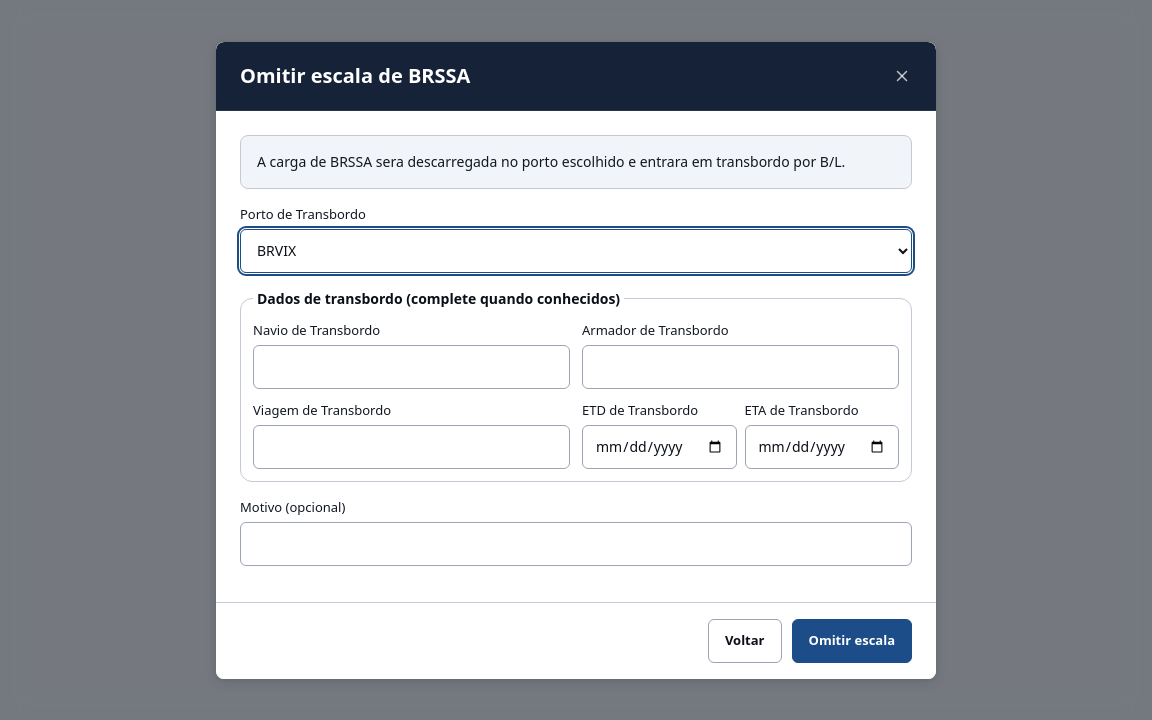
Test: OmitEscalaModal - recusa do banco › mostra o motivo da recusa e não fecha a janela
Click the button "Omitir escala".
click(852, 640)  # box [792,618,912,662]
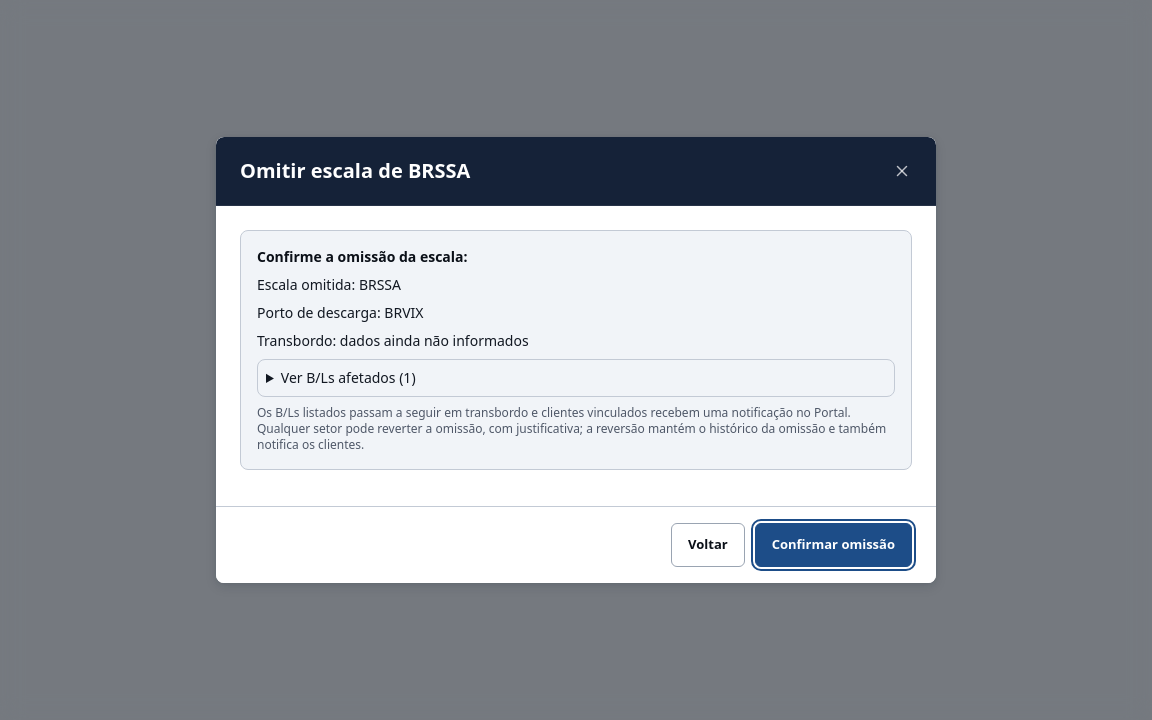
Click the button "Confirmar omissão".
click(833, 545)  # box [755,523,912,567]
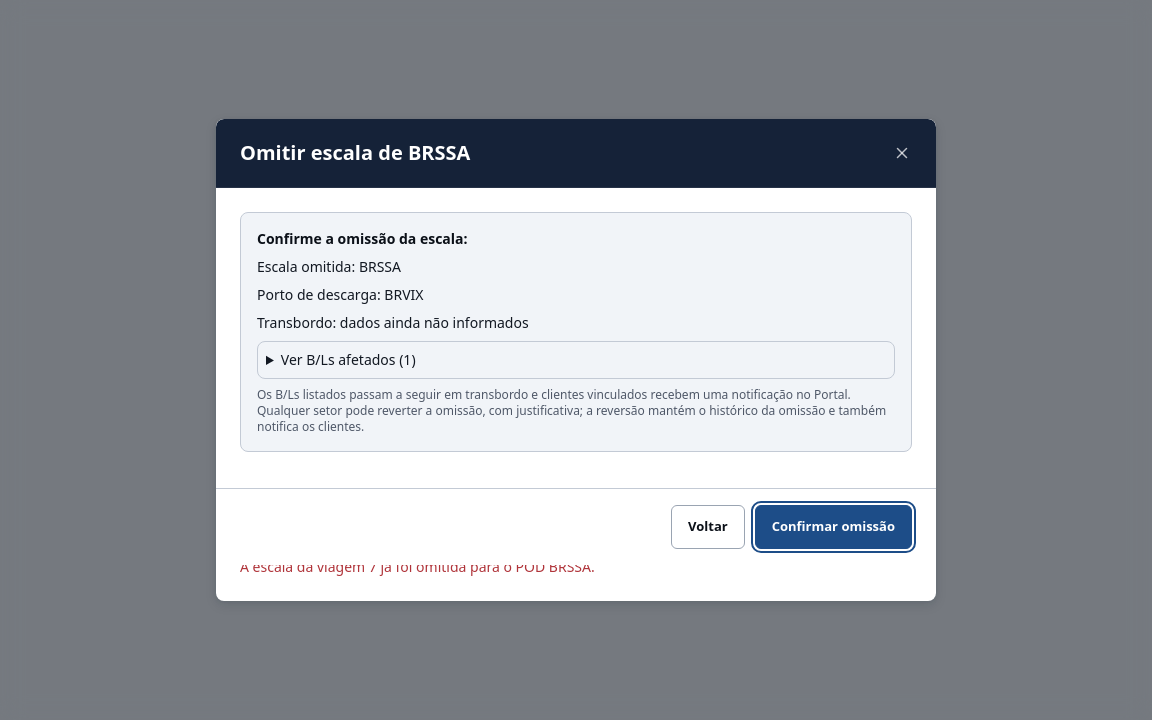
Expected: the message reads "A escala da viagem 7 ja foi omitida para o POD BRSSA.", [240,557,595,576]
